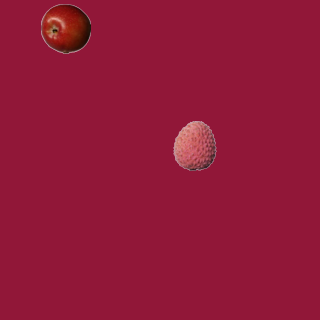Apple Braeburn: (40, 3, 90, 53)
Lychee: (169, 120, 219, 170)
